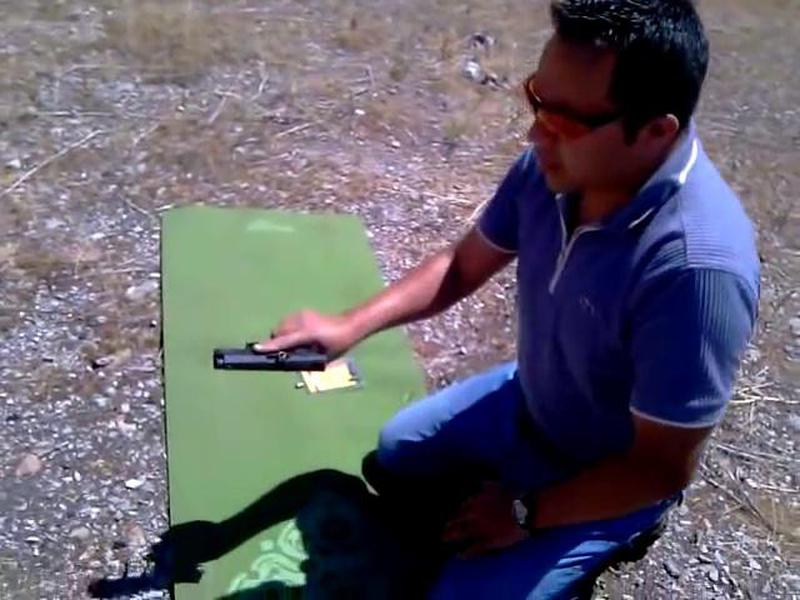Pistola: (213, 314, 342, 387)
